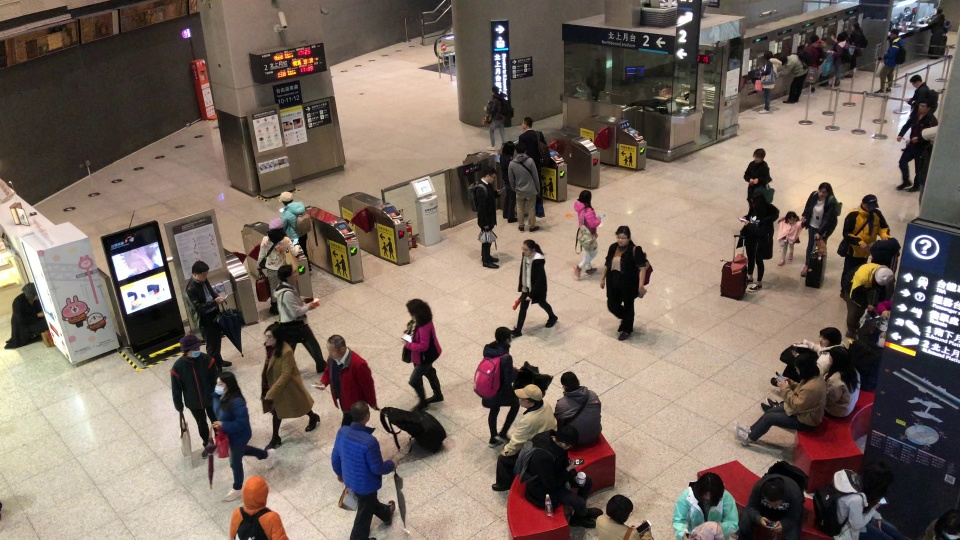person_head: (862, 460, 892, 499), (241, 475, 269, 508), (605, 493, 634, 524), (698, 472, 723, 503), (761, 478, 784, 508), (515, 384, 543, 408), (793, 354, 820, 378), (554, 425, 579, 450), (214, 371, 237, 396), (349, 400, 371, 426), (326, 334, 347, 359), (817, 327, 842, 348), (829, 345, 850, 370), (179, 334, 201, 357), (942, 511, 960, 538), (263, 323, 283, 346), (190, 260, 210, 282), (874, 264, 894, 286), (276, 264, 297, 284), (560, 370, 580, 391), (406, 298, 426, 318), (615, 223, 631, 247), (493, 326, 512, 345), (749, 191, 766, 211), (860, 194, 879, 211), (521, 239, 541, 255), (22, 282, 38, 300), (482, 166, 496, 184), (269, 217, 284, 233), (817, 182, 832, 198), (917, 98, 931, 115), (577, 190, 592, 205), (751, 147, 766, 162), (279, 191, 293, 206), (501, 140, 515, 155), (909, 73, 922, 88), (515, 141, 528, 155), (784, 210, 798, 223), (521, 116, 533, 130), (888, 28, 900, 40), (762, 49, 774, 60), (809, 33, 819, 43), (779, 54, 788, 64), (491, 86, 500, 95), (850, 21, 859, 30), (934, 5, 943, 14), (836, 33, 846, 41)
person_vbox: (511, 424, 603, 530), (331, 400, 399, 540), (731, 353, 827, 449), (209, 371, 277, 504), (259, 323, 320, 451), (759, 345, 862, 419), (812, 460, 905, 540), (491, 384, 558, 492), (313, 334, 380, 429), (170, 334, 219, 459), (472, 326, 521, 450), (272, 264, 327, 373), (836, 194, 892, 299), (598, 224, 647, 342), (739, 460, 809, 540), (183, 260, 232, 371), (769, 325, 847, 390), (508, 239, 559, 337), (401, 298, 444, 411), (734, 191, 780, 293), (672, 472, 738, 539), (256, 217, 300, 317), (465, 166, 503, 269), (895, 98, 937, 191), (229, 475, 289, 540), (801, 182, 842, 277), (845, 262, 894, 340), (553, 371, 602, 448), (507, 141, 540, 234), (3, 282, 48, 350), (515, 116, 551, 201), (278, 190, 312, 274), (571, 190, 602, 282), (595, 494, 654, 540), (873, 28, 907, 94), (742, 147, 772, 219), (483, 85, 514, 150), (778, 50, 814, 103), (826, 32, 856, 87), (499, 140, 518, 223), (902, 73, 938, 116), (758, 50, 782, 114), (777, 211, 803, 269), (803, 33, 827, 95), (843, 22, 868, 79), (920, 509, 959, 540), (925, 4, 950, 36)
